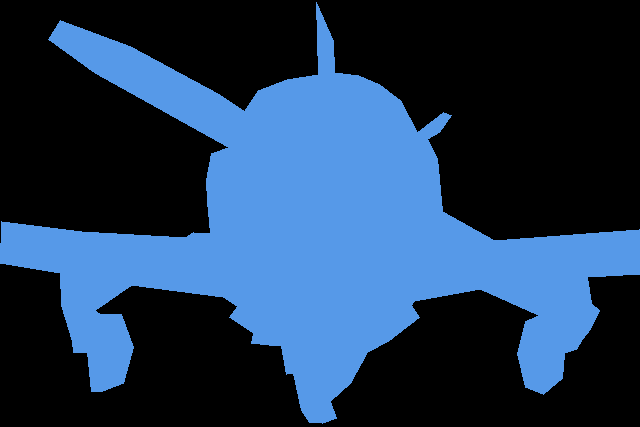Airplane: (0, 2, 640, 423)
